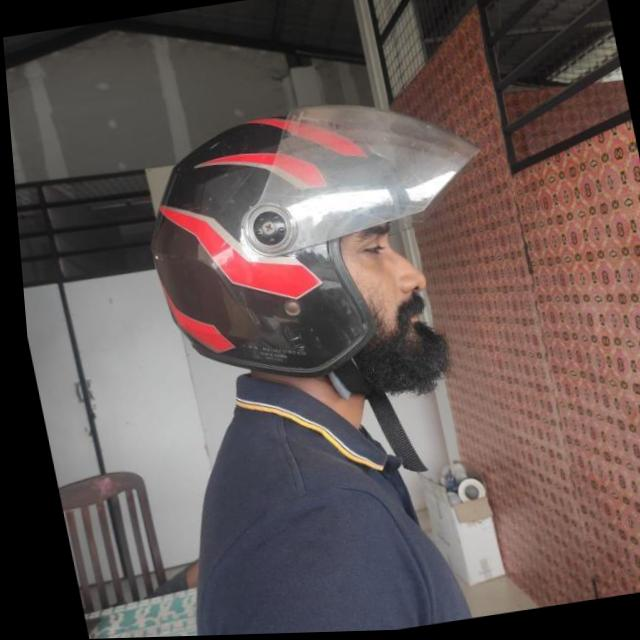helmet: (125, 78, 538, 509)
